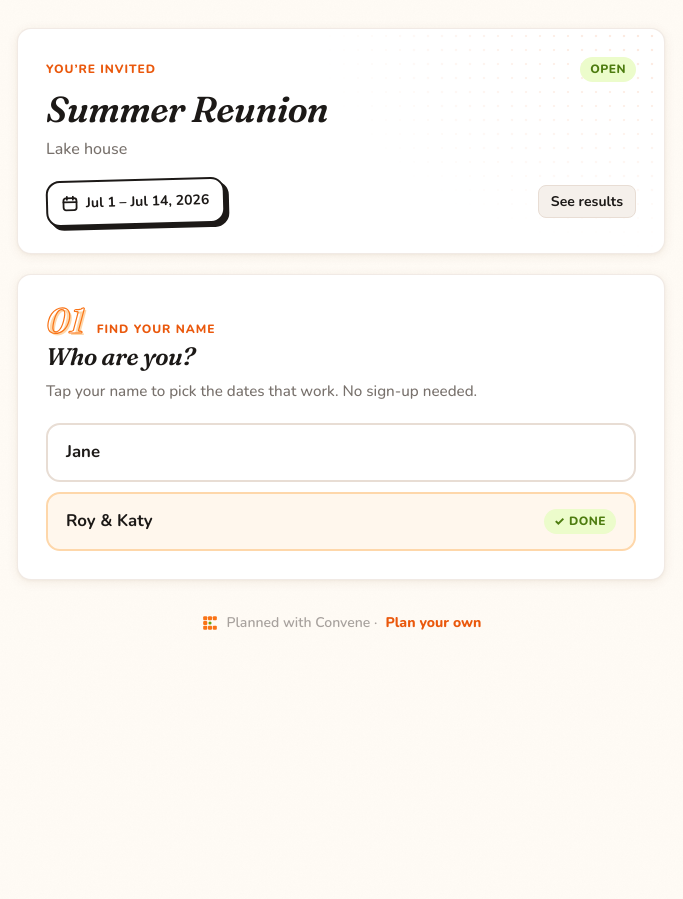
ParticipantView › keeps the form on screen when a submit fails (regression: used to blank the page)
The image size is (683, 899).
Click the button "Jane" at (83, 452), box [46,423,636,482]
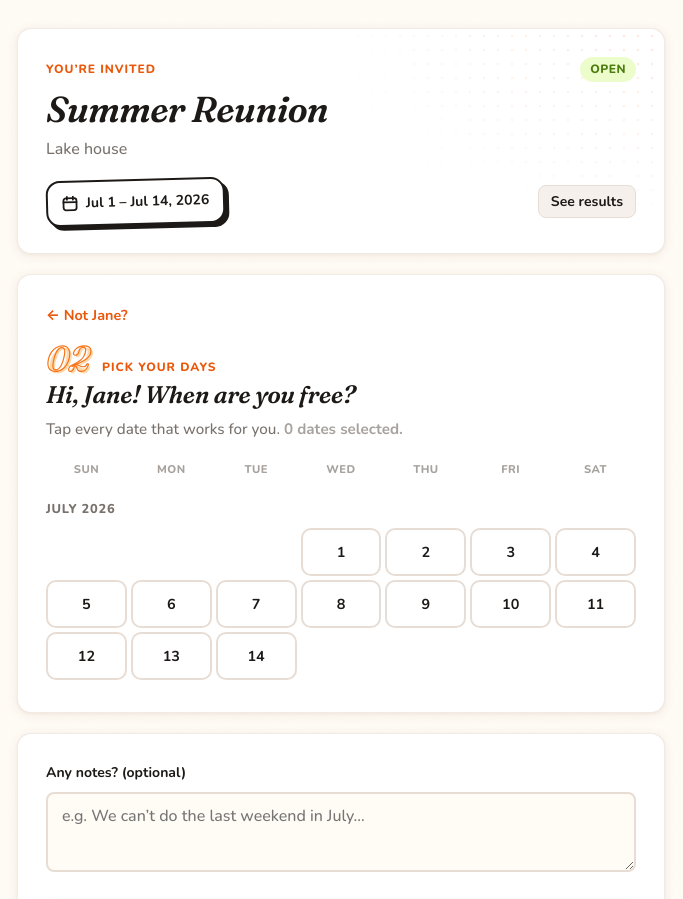
Click the button "4" at (596, 552), box [555,528,636,576]
(page scrolled)
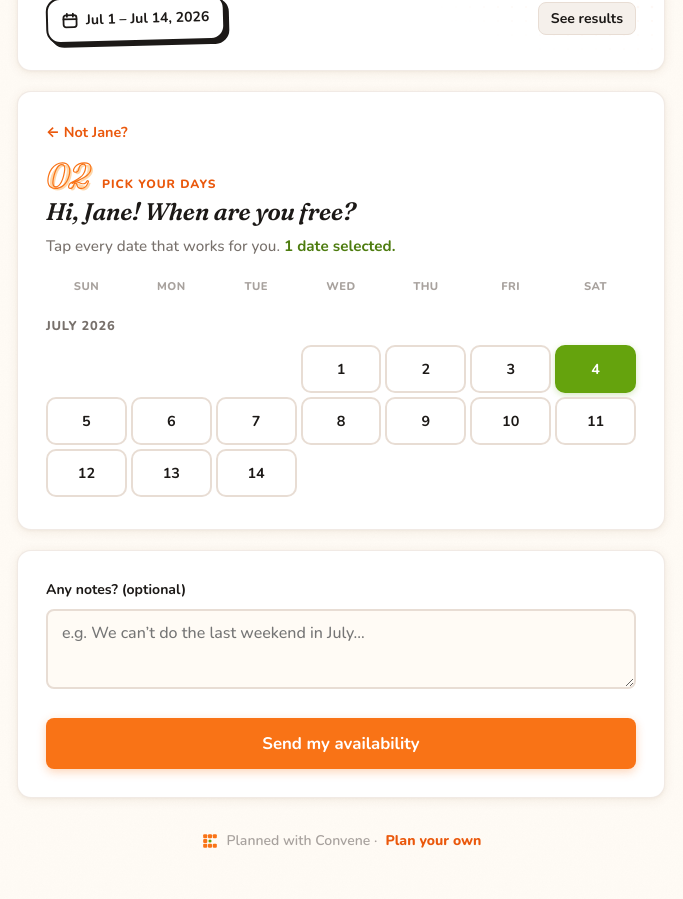
Click the button "Send my availability" at (341, 743), box [46,718,636,769]
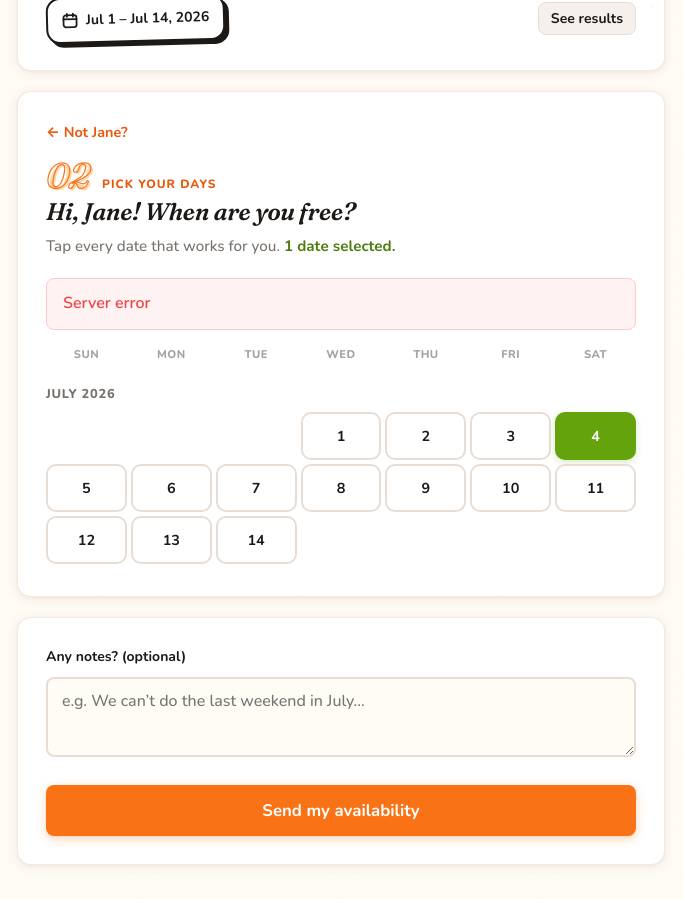
Now the button "Send my availability" is shown, box [46,785,636,836]
Now the text "Server error" is shown, box [46,278,636,330]
